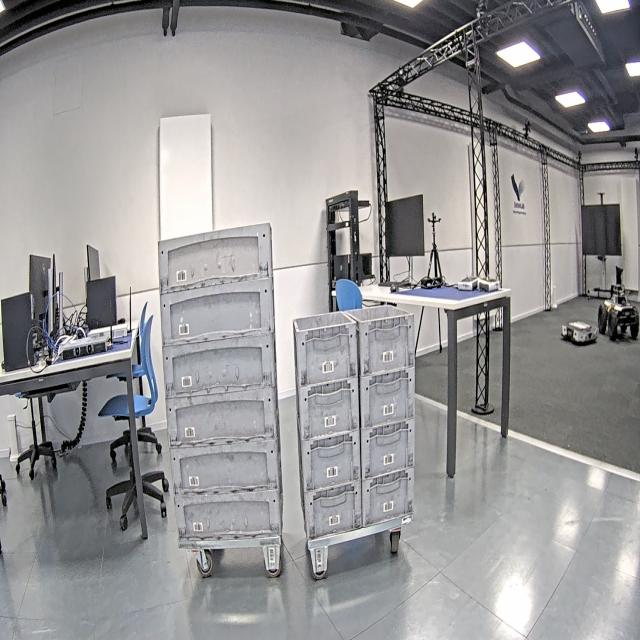Box3G: (158, 223, 273, 294), (160, 278, 277, 346), (164, 388, 286, 449), (162, 334, 276, 399), (168, 440, 283, 495), (174, 488, 284, 540)
Box8G: (346, 306, 418, 377), (292, 312, 359, 385), (298, 431, 360, 492), (295, 376, 359, 433), (300, 480, 362, 538), (359, 370, 417, 428), (362, 420, 416, 478), (362, 468, 416, 524)
